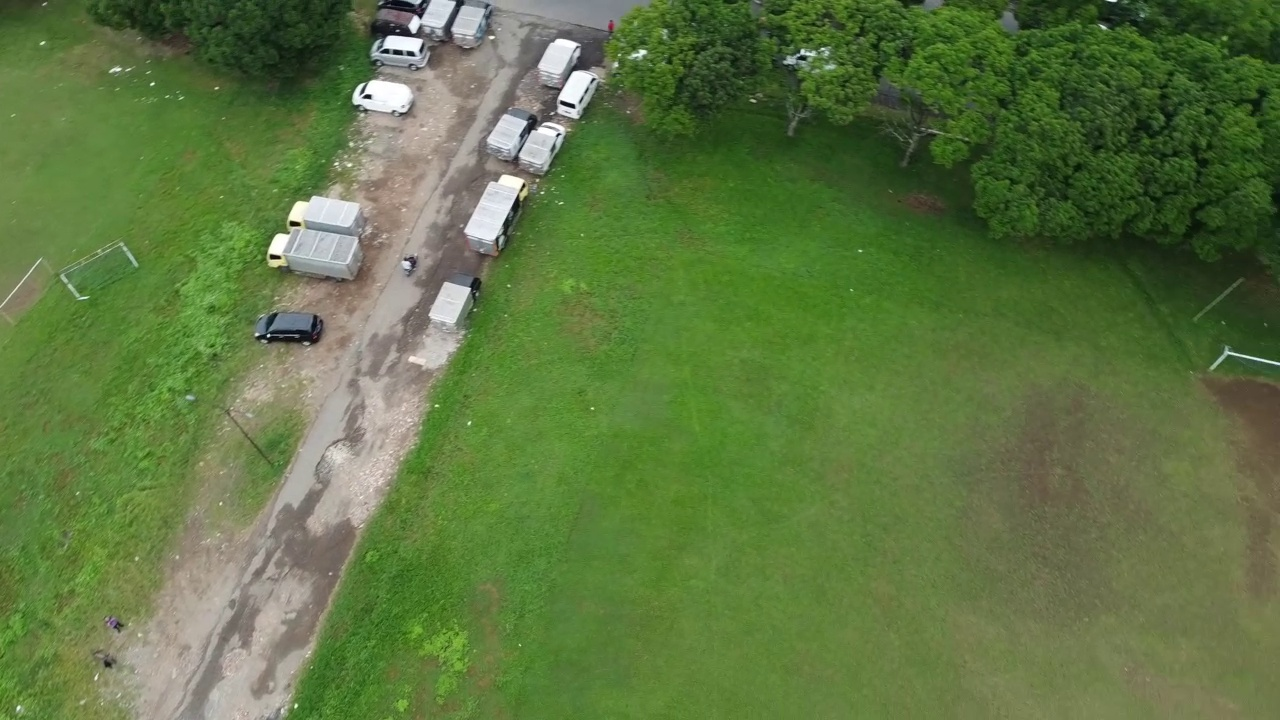mobil: (249, 307, 326, 349), (550, 65, 601, 123), (353, 73, 415, 120), (368, 35, 435, 73), (362, 8, 422, 41)
